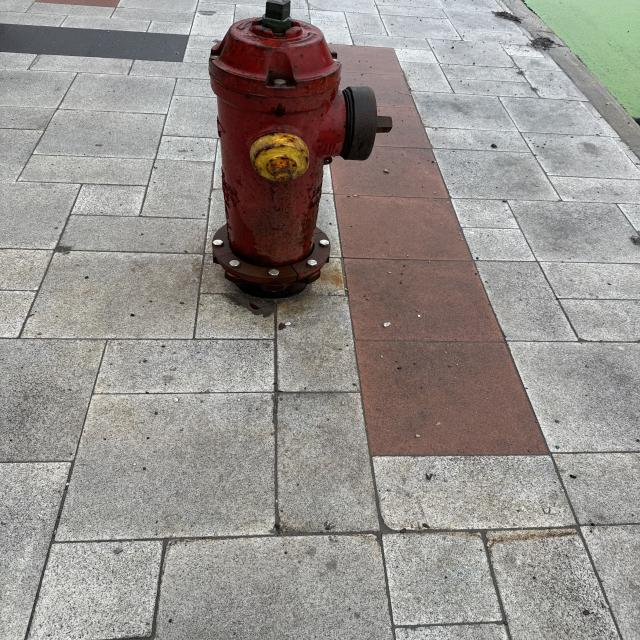Fire hydrant: (206, 0, 394, 299)
